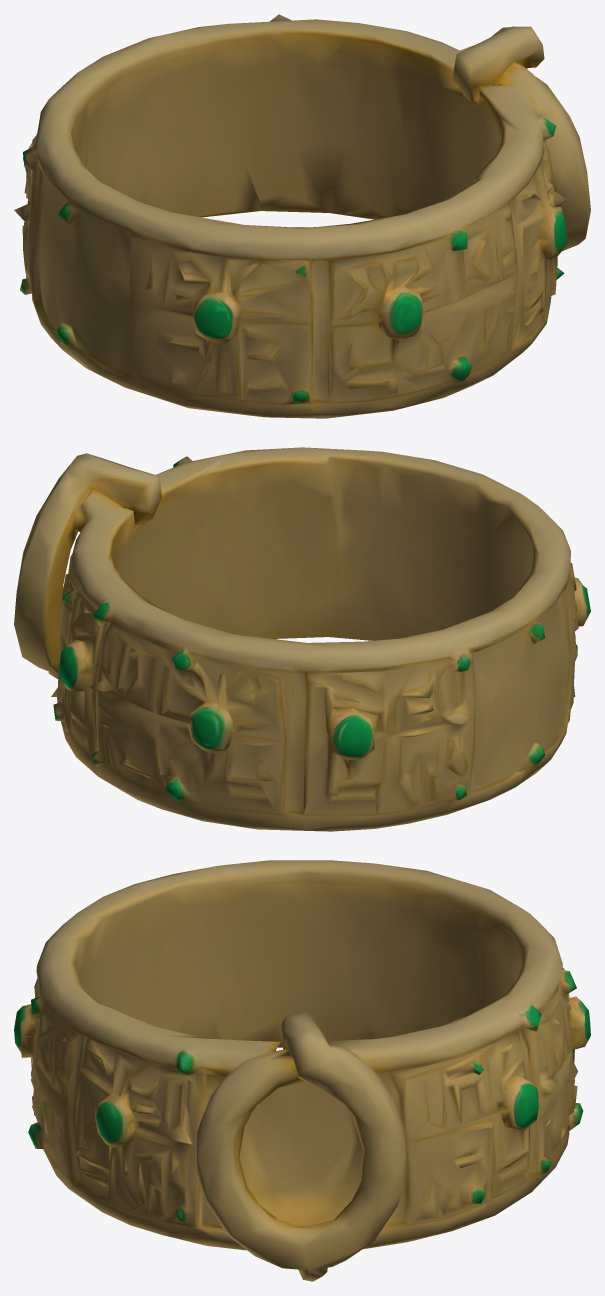
The model's file is et_collar.glb.
The picture shows the model from 3 angles, top to bottom: view 1: azimuth 30°, elevation 25°; view 2: azimuth 150°, elevation 25°; view 3: azimuth 270°, elevation 25°; orthographic projection. The views are drawn at different scales.
Parts seen in each view (by area): view 1: tripo_node_ff3e48ac-cdf2-42af-b828-20f12447092b; view 2: tripo_node_ff3e48ac-cdf2-42af-b828-20f12447092b; view 3: tripo_node_ff3e48ac-cdf2-42af-b828-20f12447092b.
Boxes of the visible parts, box(x1,y1,x2,y2) form: tripo_node_ff3e48ac-cdf2-42af-b828-20f12447092b: box(14, 14, 590, 418); tripo_node_ff3e48ac-cdf2-42af-b828-20f12447092b: box(14, 447, 590, 831); tripo_node_ff3e48ac-cdf2-42af-b828-20f12447092b: box(14, 860, 590, 1281).
Size of the model in its own units: 2.22 by 1 by 2.18.
1 material, 1 textured.
